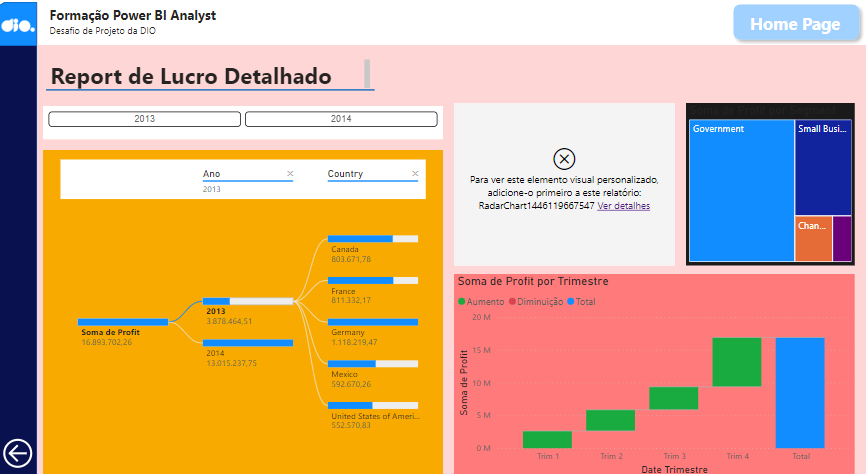

The page's visual inventory and layout, read from the dashboard file:
{"tool":"powerbi","page":{"name":"Profit","canvas":[1280,720],"ordinal":1},"visuals":[{"type":"actionButton","title":"Home Page","box":[1064.7,14.6,199.6,69.2],"z":0,"group":"g2"},{"type":"shape","box":[42.6,20.7,1225.3,699.3],"z":0},{"type":"shape","box":[83.9,127.8,473,37.1],"z":0,"group":"g1"},{"type":"shape","box":[12.4,20.2,57.7,699.8],"z":1000},{"type":"textbox","box":[1076.9,29.4,173,42.6],"z":1000,"group":"g2"},{"type":"textbox","box":[85.3,97.6,470.2,52.2],"z":1000,"group":"g1"},{"type":"shape","box":[12.4,20.6,57.7,63.2],"z":2000},{"type":"image","box":[13.7,33,57.7,39.9],"z":3000},{"type":"shape","title":"Fundo do Título","box":[71.5,20.6,1198.9,61.9],"z":4000},{"type":"textbox","title":"Título do report","box":[83.9,22,378.1,63.2],"z":5000},{"type":"shape","box":[79.7,233.7,576.1,473],"z":6000},{"type":"decompositionTreeVisual","fields":{"Analyze":["Sum(financials.Profit)"],"ExplainBy":["financials.Date.Variation.Hierarquia de datas.Ano","financials.Country"]},"box":[99.8,242.2,536.3,456.5],"z":7000},{"type":"waterfallChart","fields":{"Category":["financials.Date.Variation.Hierarquia de datas.Trimestre"],"Y":["Sum(financials.Profit)"]},"box":[670.9,412.5,577.4,294.2],"z":8000},{"type":"ChicletSlicer1448559807354","fields":{"Category":["financials.Date.Variation.Hierarquia de datas.Ano"]},"box":[79.7,170.5,576.1,48.1],"z":9000},{"type":"RadarChart1446119667547","fields":{"Category":["financials.Product"],"Y":["Sum(financials.Profit)"]},"box":[670.9,165,317.6,233.7],"z":10000},{"type":"treemap","fields":{"Values":["Sum(financials.Profit)"],"Group":["financials.Segment"]},"box":[1005,165,243.4,233.7],"z":11000},{"type":"group","id":"g1","title":"Sales report","box":[83.9,97.6,473,67.4],"z":12000},{"type":"actionButton","box":[15.9,622.4,54,96.9],"z":13000},{"type":"group","id":"g2","title":"Botão home","box":[1064.7,14.6,199.6,69.2],"z":14000}]}

Visuals, with their boxes on the page's 1280x720 design canvas (x1, y1, x2, y2). These are canvas units, not pixel positions in the 866x474 screenshot, which may show the page scaled, cropped or inside an application window:
"Home Page" actionButton: bbox=(1065, 15, 1264, 84)
shape: bbox=(43, 21, 1268, 720)
shape: bbox=(84, 128, 557, 165)
shape: bbox=(12, 20, 70, 720)
textbox: bbox=(1077, 29, 1250, 72)
textbox: bbox=(85, 98, 556, 150)
shape: bbox=(12, 21, 70, 84)
image: bbox=(14, 33, 71, 73)
"Fundo do Título" shape: bbox=(72, 21, 1270, 82)
"Título do report" textbox: bbox=(84, 22, 462, 85)
shape: bbox=(80, 234, 656, 707)
decompositionTreeVisual - Sum(financials.Profit) x financials.Date.Variation.Hierarquia de datas.Ano: bbox=(100, 242, 636, 699)
waterfallChart - financials.Date.Variation.Hierarquia de datas.Trimestre x Sum(financials.Profit): bbox=(671, 412, 1248, 707)
ChicletSlicer1448559807354 - financials.Date.Variation.Hierarquia de datas.Ano: bbox=(80, 170, 656, 219)
RadarChart1446119667547 - financials.Product x Sum(financials.Profit): bbox=(671, 165, 988, 399)
treemap - Sum(financials.Profit) x financials.Segment: bbox=(1005, 165, 1248, 399)
"Sales report" group: bbox=(84, 98, 557, 165)
actionButton: bbox=(16, 622, 70, 719)
"Botão home" group: bbox=(1065, 15, 1264, 84)
